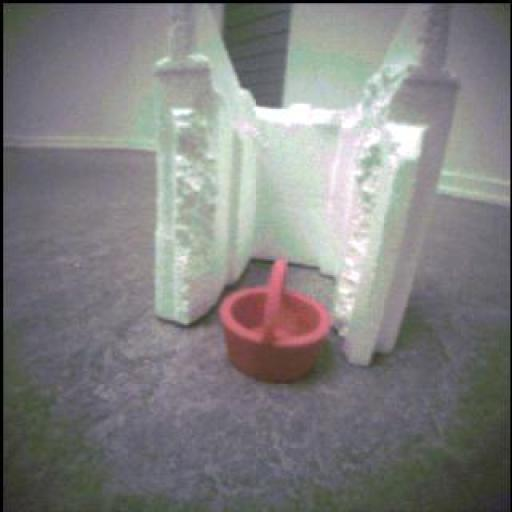Bucket: (220, 261, 332, 384)
